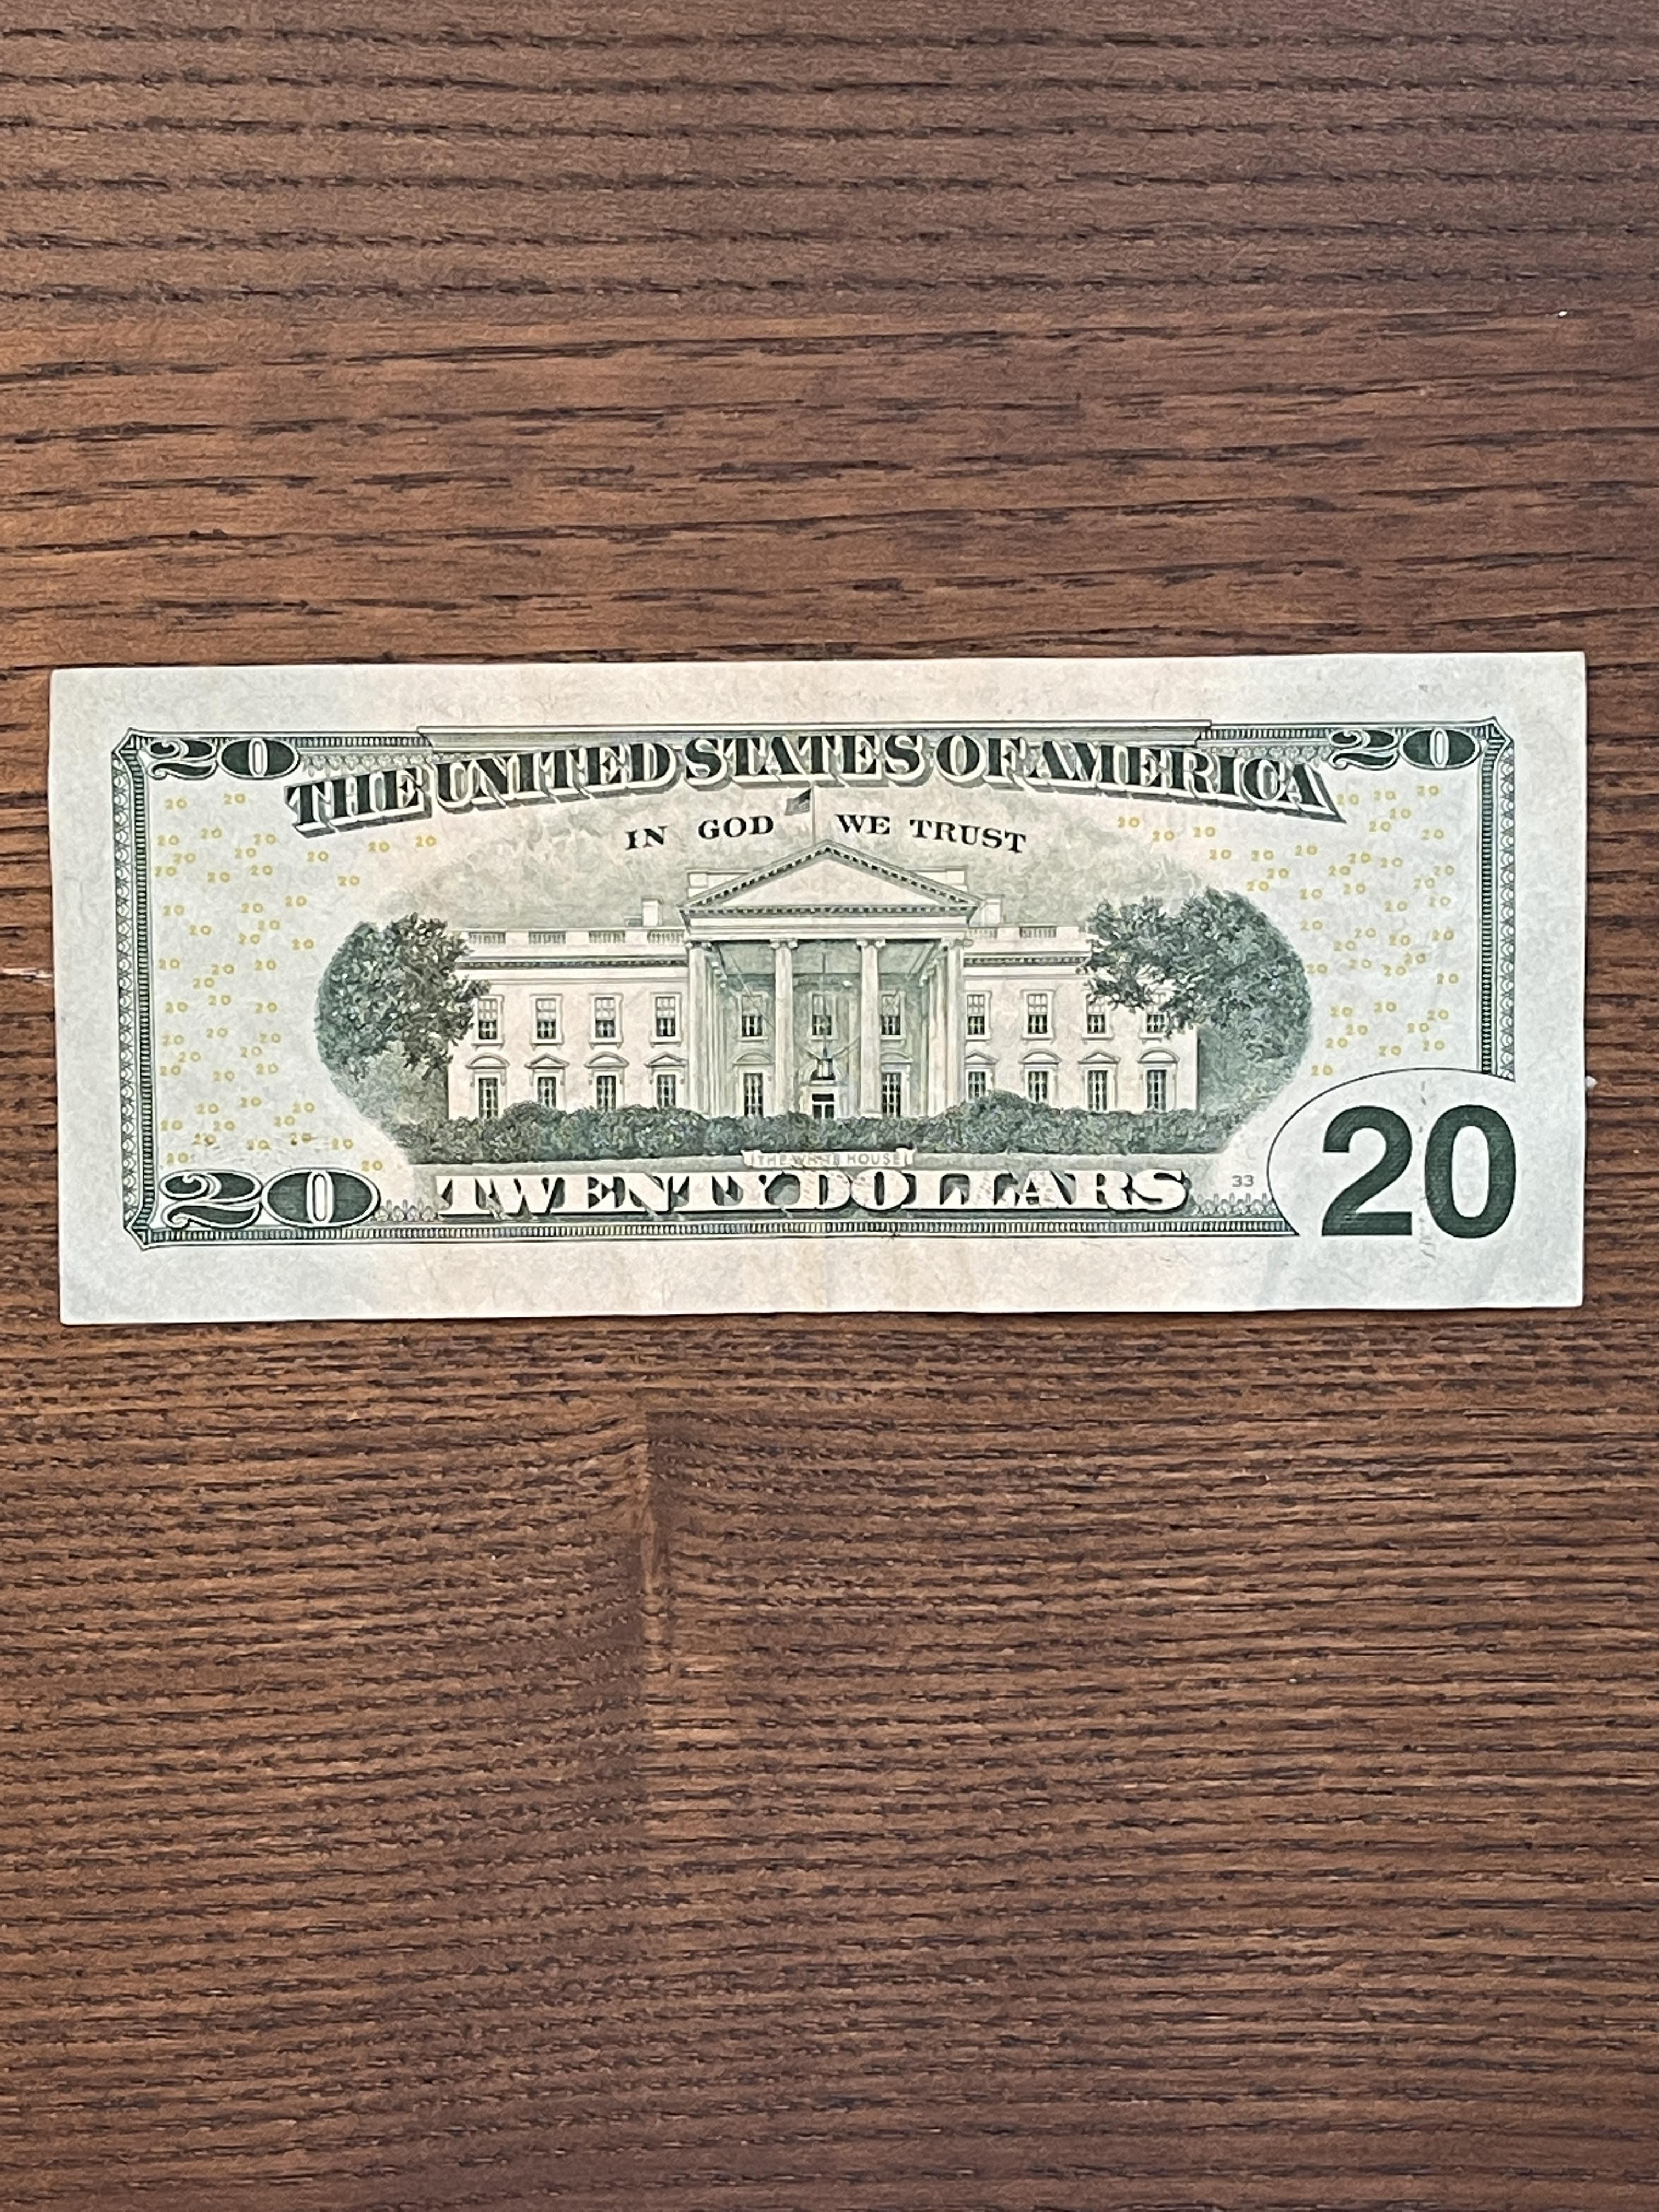TwentyBill: (42, 646, 1595, 1331)
